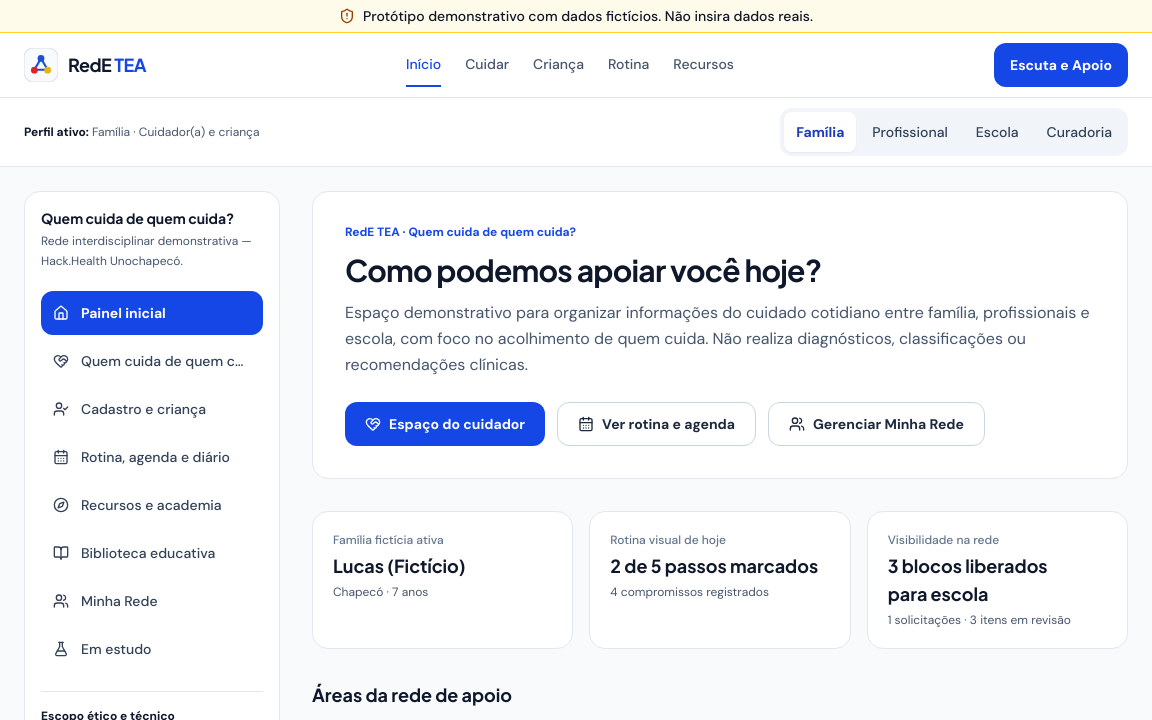
it: RedE TEA — Protótipo Navegável › autoriza e revoga acesso por bloco na tela Minha Rede com reflexo imediato no perfil Escola
Step 1. Click the button "Minha Rede" → (152, 601), box [41,579,263,623]
(page scrolled)
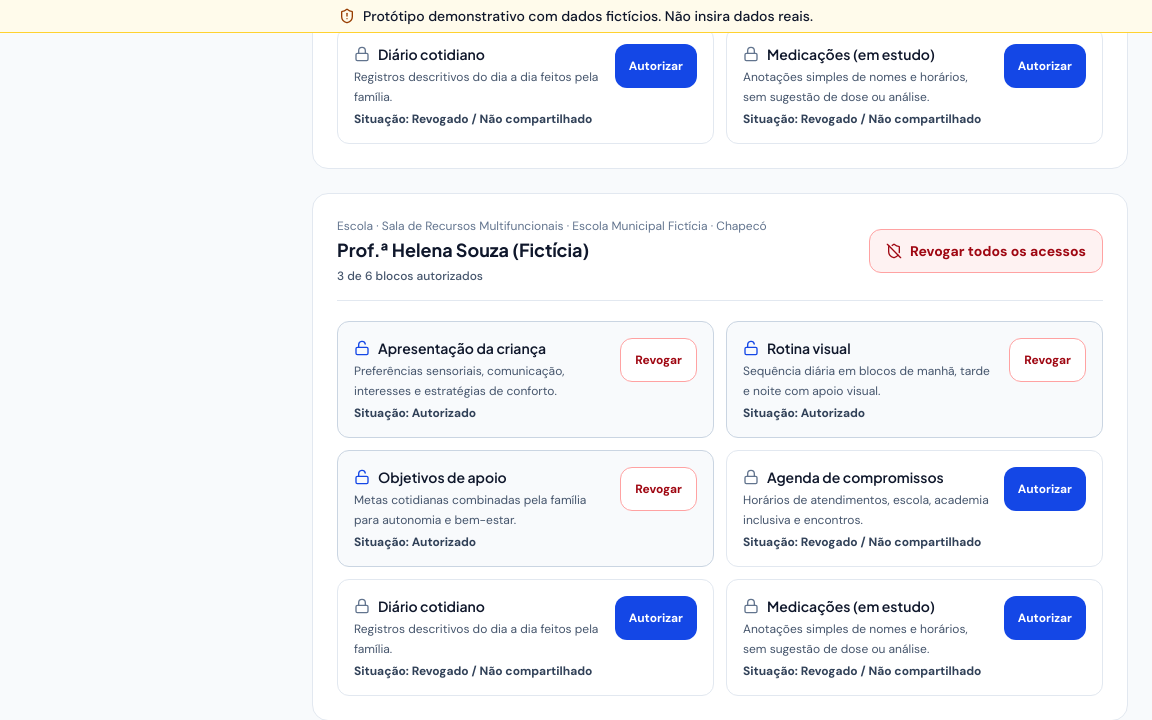
// Revoga "Apresentação da criança" da Escola e autoriza "Agenda de compromissos" para a Escola
Step 2. Click the button named "Revogar Apresentação da criança para Prof.ª Helena Souza (Fictícia)" → (659, 360), box [620,338,697,382]
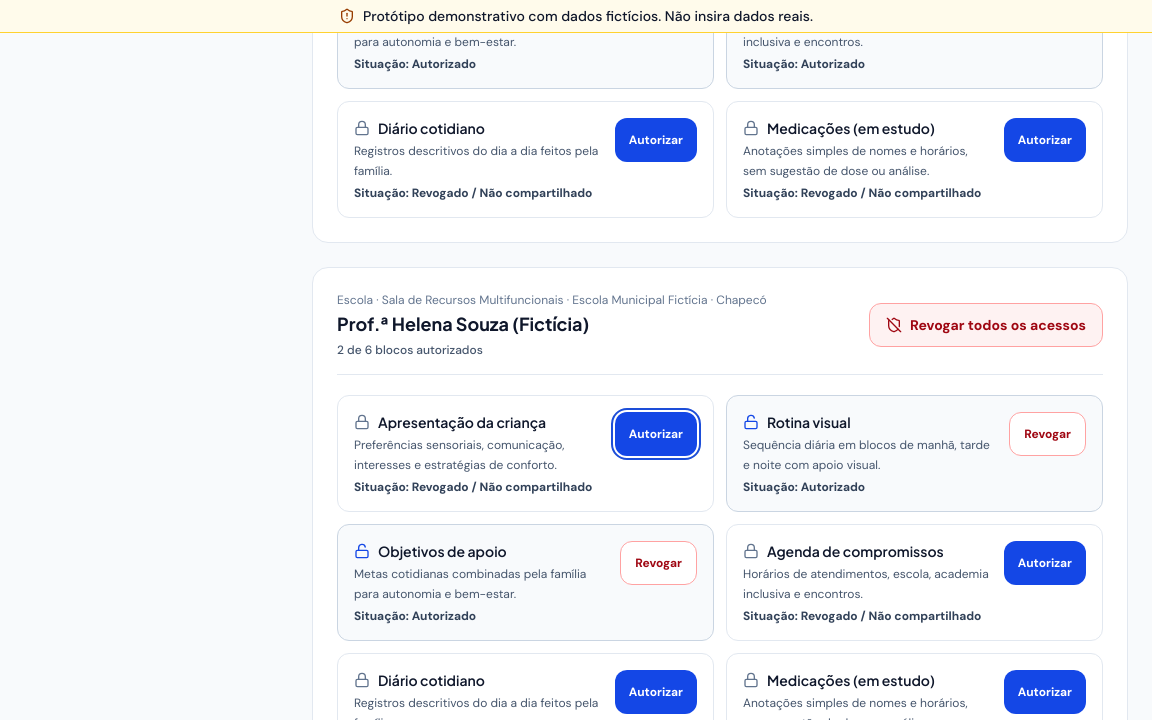
Step 3. Click the button named "Autorizar Agenda de compromissos para Prof.ª Helena Souza (Fictícia)" → (1045, 563), box [1004,541,1086,585]
(page scrolled)
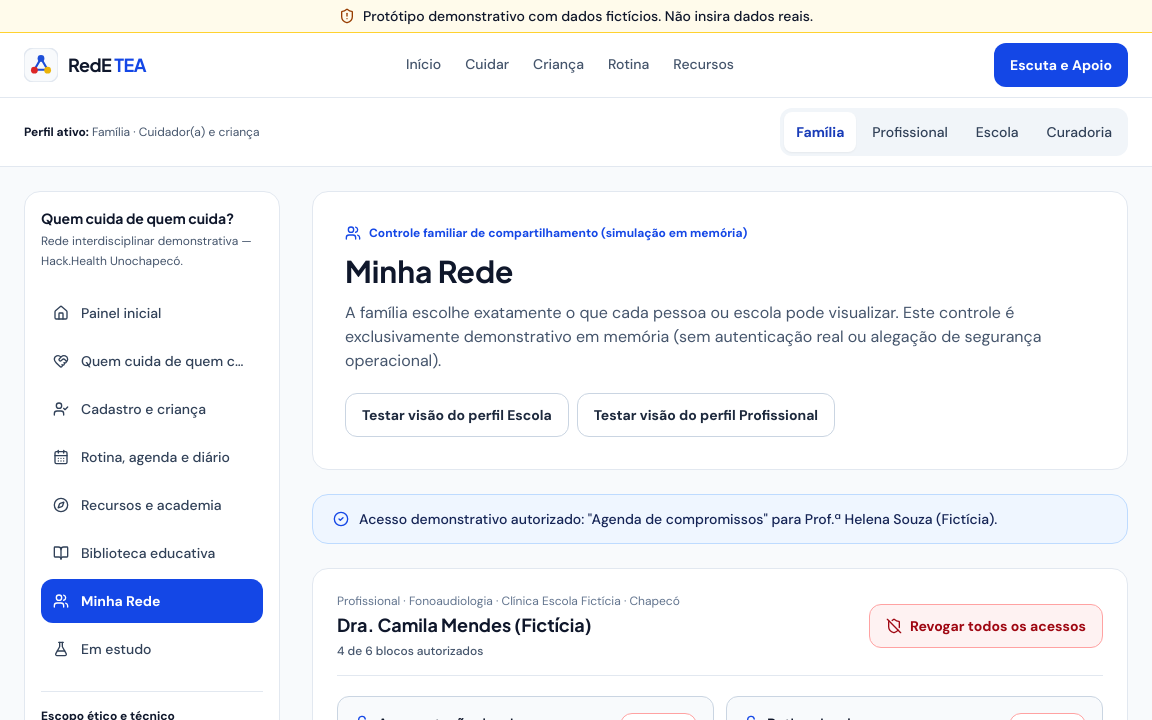
// Troca para perfil Escola e verifica o reflexo imediato
Step 4. Click the button "Escola" → (997, 132), box [964,112,1031,152]
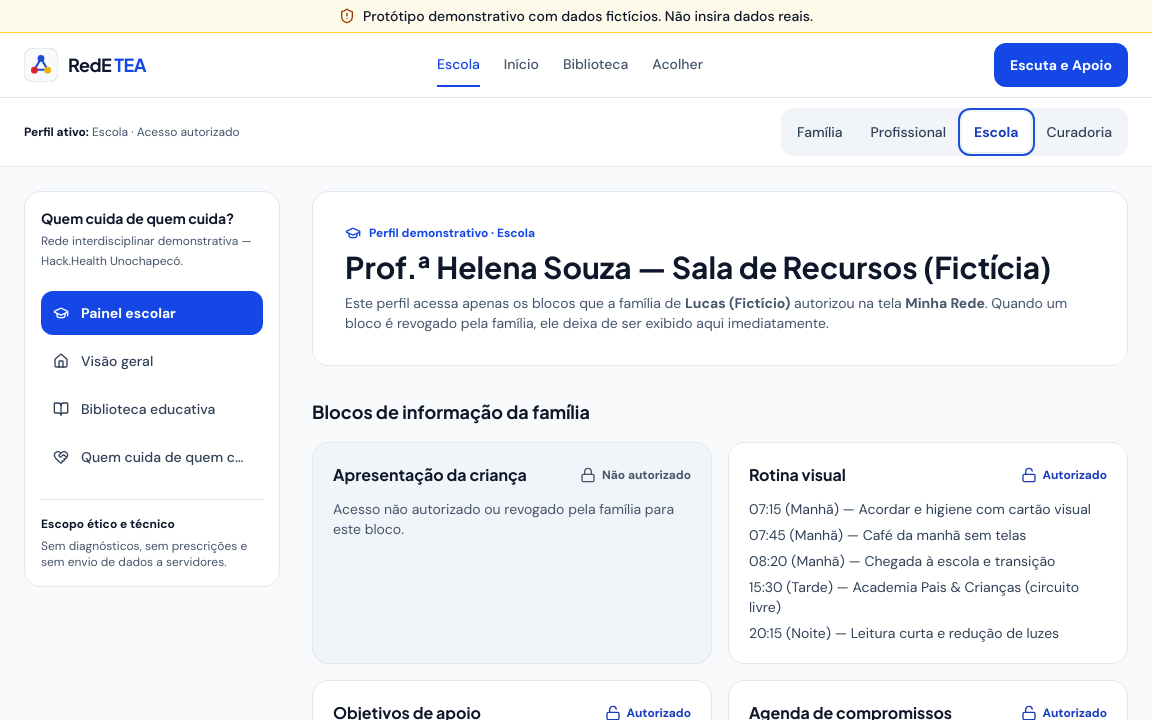
Expected: the text "Autorizado" next to "Agenda de compromissos" is shown, [1042,705,1107,719]
Expected: the text "Acesso não autorizado ou revogado pela família para este bloco." is shown, [333,499,691,539]
